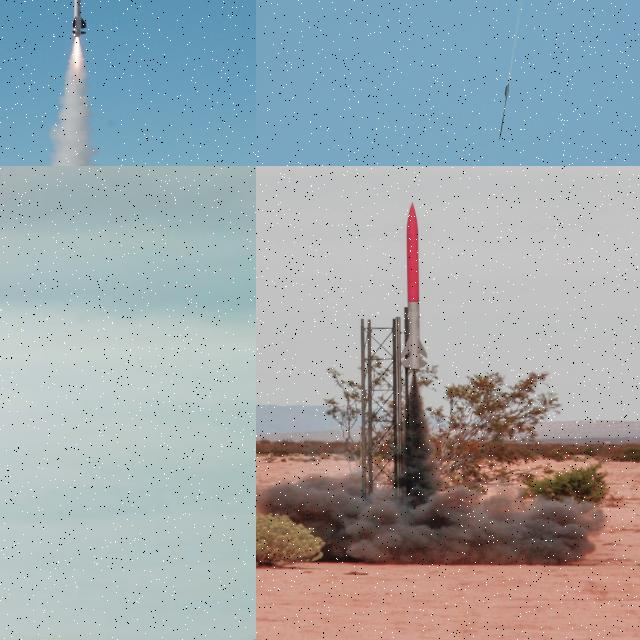Rocket: (399, 202, 429, 371), (499, 80, 510, 141), (71, 0, 87, 37)
